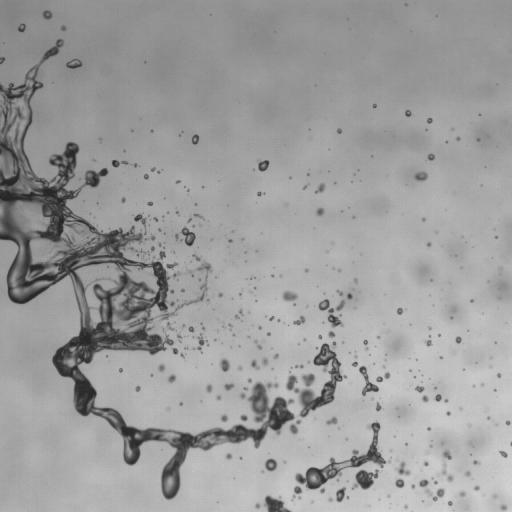droplet: (318, 299, 345, 327), (359, 366, 378, 395), (352, 469, 379, 489), (263, 495, 290, 511), (181, 227, 195, 245), (196, 334, 208, 352), (395, 462, 410, 475), (336, 487, 348, 502), (282, 290, 297, 301), (134, 213, 146, 226), (265, 458, 277, 471), (219, 358, 230, 371), (414, 171, 427, 181), (66, 60, 82, 68), (258, 160, 269, 171), (293, 316, 305, 325), (315, 183, 325, 193), (42, 10, 52, 19), (395, 478, 404, 487), (326, 417, 337, 424), (251, 360, 259, 369), (224, 383, 234, 390), (220, 414, 228, 422), (415, 385, 424, 392), (192, 134, 198, 144), (316, 208, 324, 215), (168, 374, 175, 382), (18, 24, 25, 31), (425, 339, 432, 346), (434, 394, 441, 401), (206, 384, 212, 392), (499, 451, 507, 457), (427, 154, 434, 160), (397, 307, 403, 314), (455, 336, 461, 343), (262, 358, 268, 365), (158, 364, 164, 371), (422, 395, 428, 402), (459, 490, 465, 497), (405, 110, 411, 116), (328, 331, 334, 337), (172, 348, 178, 354), (225, 453, 231, 459), (500, 505, 506, 511), (376, 403, 381, 410), (347, 293, 352, 299), (188, 326, 194, 331), (0, 57, 4, 64), (177, 333, 181, 340), (427, 118, 432, 123), (150, 234, 155, 239), (337, 290, 342, 295), (352, 361, 357, 366), (135, 386, 140, 391), (423, 461, 428, 466), (465, 471, 470, 476), (474, 485, 479, 490), (255, 503, 260, 508), (257, 192, 263, 196), (473, 460, 479, 464), (337, 128, 341, 133), (144, 174, 148, 179), (147, 201, 152, 205), (218, 292, 222, 297), (228, 324, 232, 329), (363, 340, 367, 345), (273, 354, 278, 358), (238, 365, 242, 370), (216, 395, 221, 399), (506, 420, 510, 425), (61, 26, 65, 30), (151, 167, 155, 171), (121, 198, 125, 202), (427, 242, 431, 246), (269, 316, 273, 320), (180, 353, 184, 357), (497, 373, 501, 377), (247, 378, 251, 382), (446, 411, 450, 415), (433, 480, 437, 484), (328, 497, 332, 501), (448, 501, 452, 505), (175, 234, 178, 239), (303, 185, 307, 188), (158, 243, 162, 246), (181, 288, 184, 292), (411, 484, 414, 488), (456, 137, 459, 140), (134, 163, 137, 166), (176, 180, 179, 183), (154, 217, 157, 220), (354, 279, 357, 282), (202, 326, 205, 329), (318, 335, 321, 338), (444, 399, 447, 402), (373, 104, 375, 107), (176, 212, 178, 215), (422, 218, 425, 220), (229, 239, 231, 242), (258, 326, 261, 328), (267, 332, 269, 335), (119, 369, 122, 371), (244, 387, 246, 390), (180, 402, 182, 405), (428, 427, 430, 430), (158, 171, 160, 173), (188, 219, 190, 221), (305, 269, 307, 271), (471, 300, 473, 302), (438, 334, 440, 336), (185, 347, 187, 349), (440, 356, 442, 358), (494, 495, 496, 497), (405, 505, 407, 507)
ligament: (0, 39, 346, 499), (291, 421, 390, 500), (419, 479, 444, 501), (438, 450, 453, 481), (376, 372, 390, 382), (112, 160, 127, 167), (235, 309, 243, 318), (254, 340, 261, 349), (194, 214, 203, 219), (295, 364, 303, 368), (510, 442, 511, 445)
